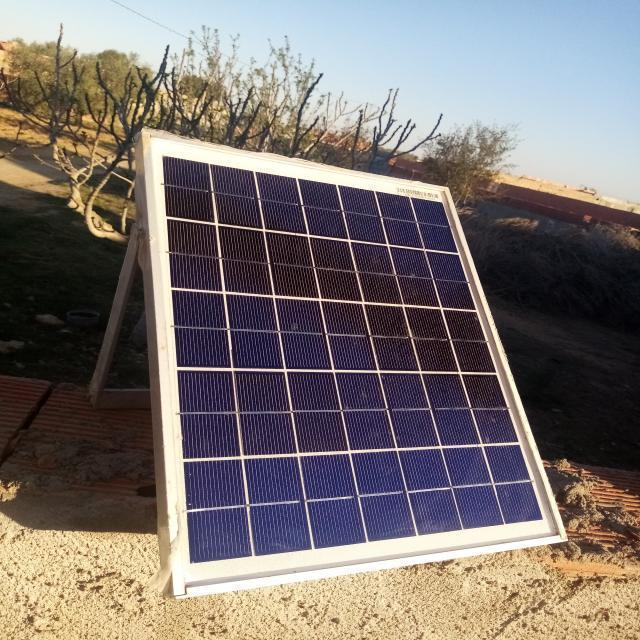Normal Solar Panel: (139, 132, 568, 591)
